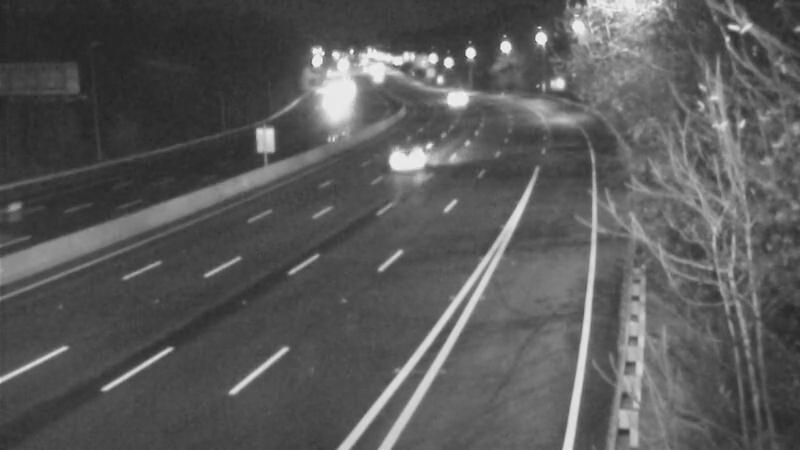vehicle: (366, 116, 446, 196), (423, 68, 473, 118)
